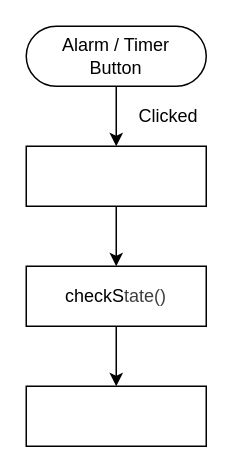
The diagram is 248 pixels wide and 473 high, and some of its shapes have lost their labels. Here are the shapes that lost their labels. From the top down, the centre of each, then its label:
point (115, 175): Toggle Alarm / Timer Button
point (115, 415): resetButtonVisibility()
